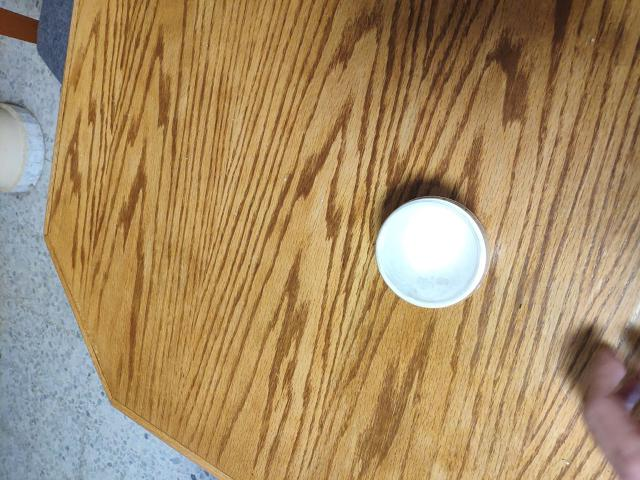cotage: (372, 199, 495, 318)
